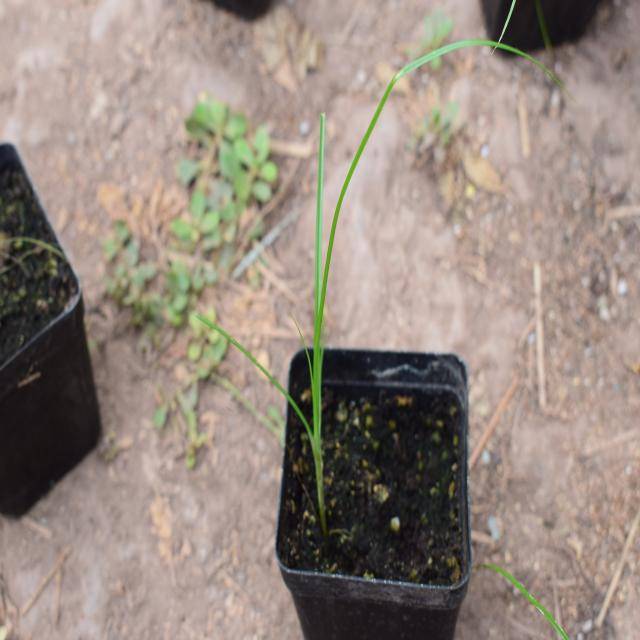sedge: (183, 47, 413, 525)
